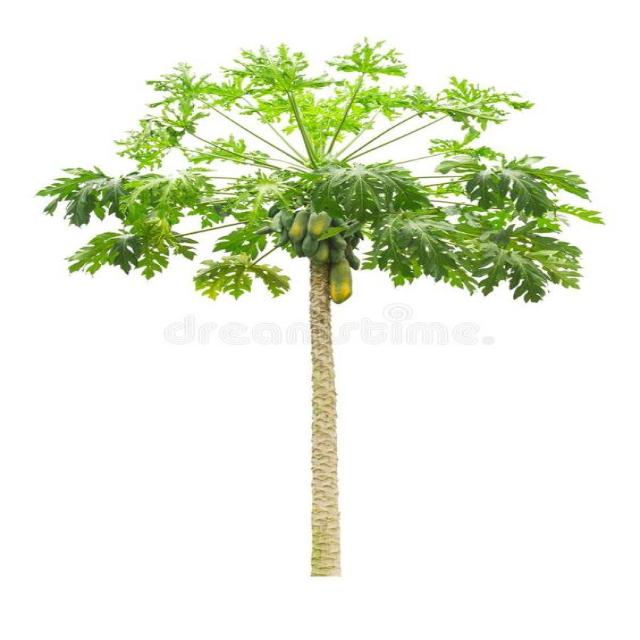Papaya-Tree: (120, 58, 537, 574)
